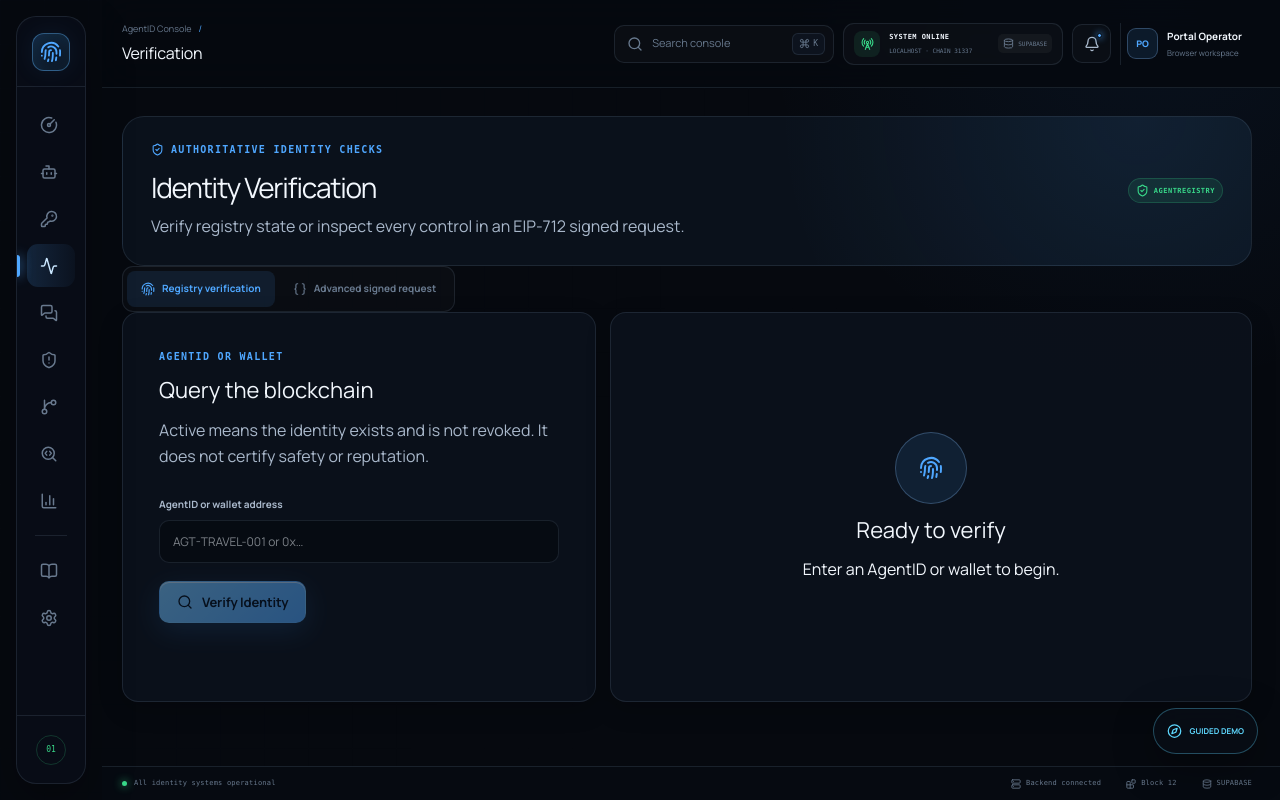
Scenario: Stage 5 verification and dashboard › renders UNKNOWN identity
The image size is (1280, 800).
In the field labelled "AgentID or wallet address": point(359, 542) [159,520,559,563], type "0x90F79bf6EB2c4f870365E785982E1f101E93b906"
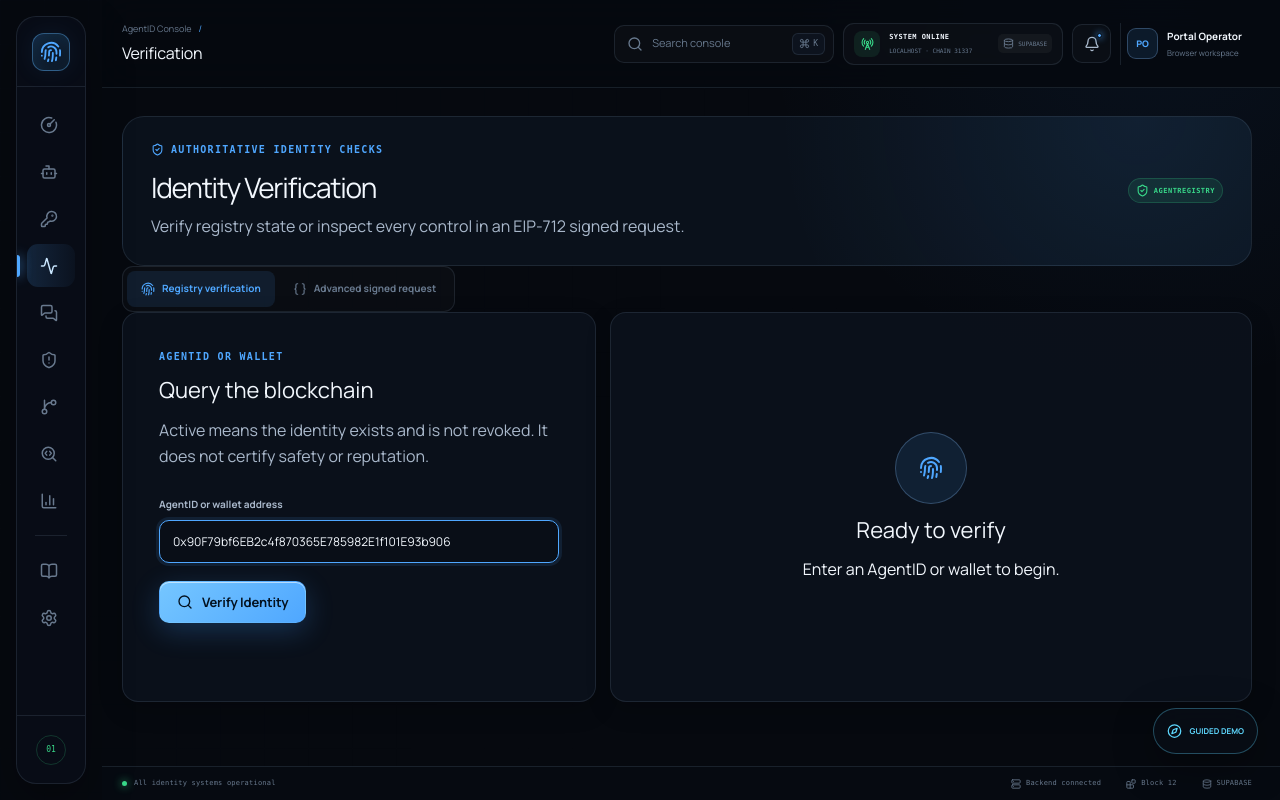
Click the button "Verify Identity": point(233, 602) [159,581,306,623]
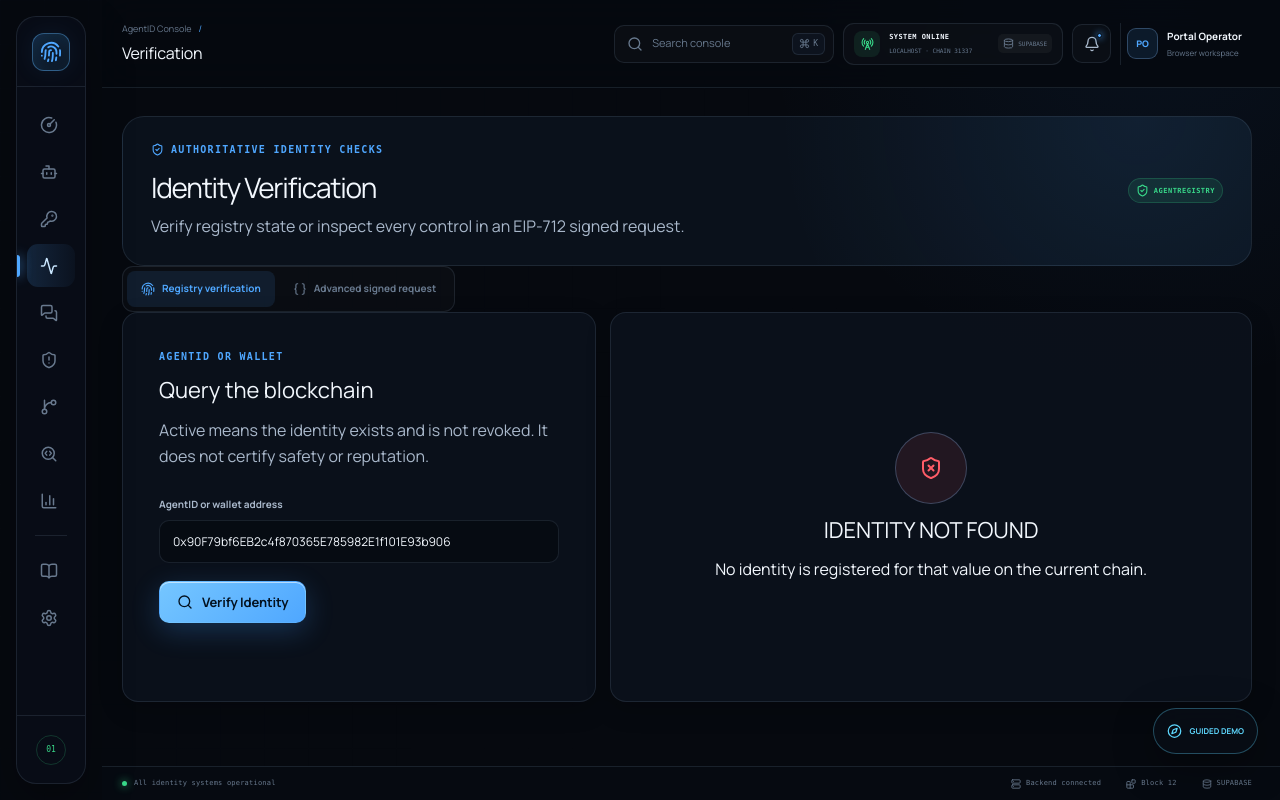
expect the heading "IDENTITY NOT FOUND" is shown: met, box [824,514,1039,547]
